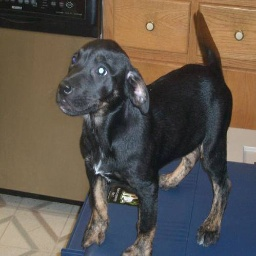dog: (52, 8, 229, 256)
